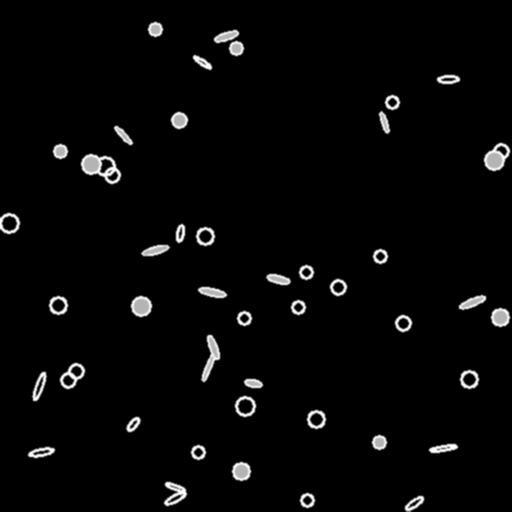pseudomonas: (31, 371, 47, 401), (200, 353, 216, 381), (459, 294, 485, 310), (113, 125, 133, 145), (206, 334, 220, 360), (164, 490, 186, 506), (214, 29, 238, 43), (192, 54, 212, 70), (404, 495, 424, 511), (142, 244, 168, 256), (199, 286, 225, 298), (266, 273, 290, 285), (429, 443, 457, 453), (164, 481, 186, 493), (378, 111, 390, 133), (28, 447, 54, 457), (125, 416, 141, 432), (175, 224, 185, 242), (244, 378, 262, 388), (437, 75, 459, 83)
synechocystis: (0, 214, 18, 232), (236, 397, 254, 415), (96, 157, 114, 175), (132, 297, 150, 315), (485, 151, 503, 169), (82, 155, 100, 173), (461, 371, 477, 387), (197, 228, 213, 244), (492, 309, 508, 325), (50, 297, 66, 313), (308, 411, 324, 427), (233, 463, 249, 479), (105, 168, 119, 182), (494, 144, 508, 158), (69, 364, 83, 378), (172, 113, 186, 127), (396, 316, 410, 330), (61, 373, 75, 387), (331, 280, 345, 294), (373, 436, 385, 448), (149, 23, 161, 35), (386, 96, 398, 108), (300, 266, 312, 278), (192, 446, 204, 458), (230, 42, 242, 54), (374, 250, 386, 262), (54, 145, 66, 157), (292, 301, 304, 313), (301, 494, 313, 506), (238, 312, 250, 324)
